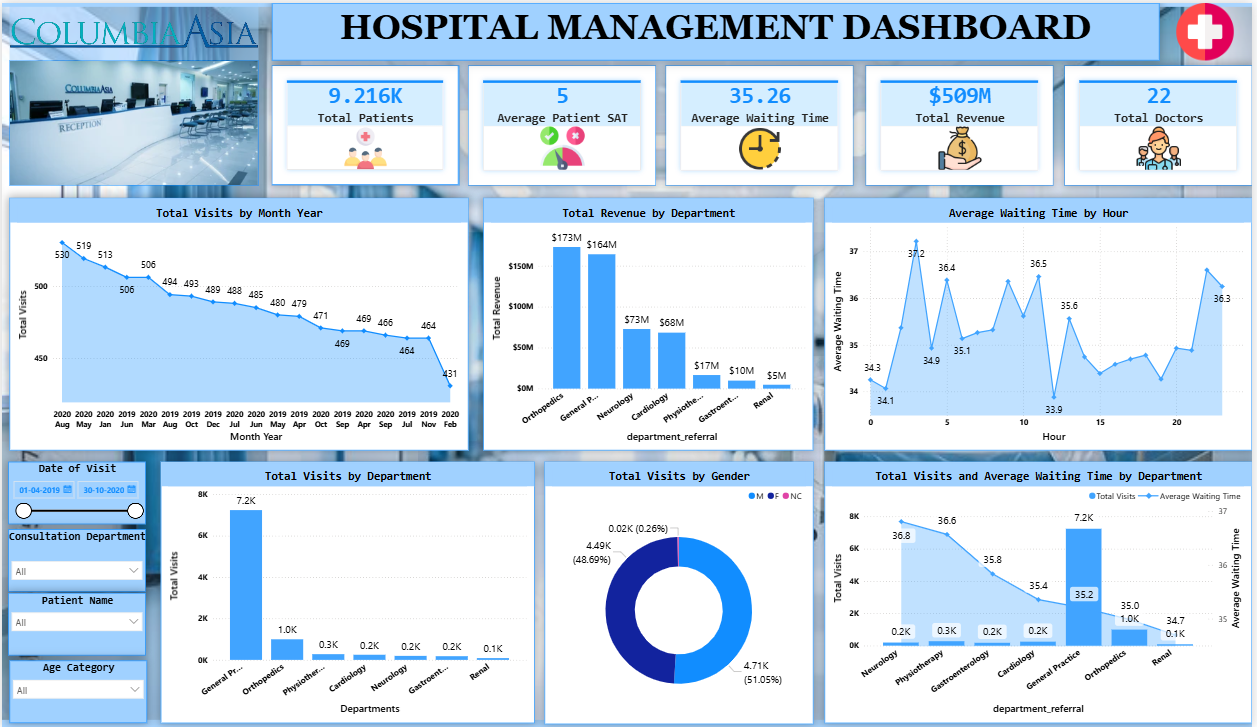

Layout of this report page (visuals, bound fields, positions):
{"tool":"powerbi","page":{"name":"Main Tab","canvas":[2000,1160],"ordinal":0},"visuals":[{"type":"cardVisual","fields":{"Data":["Hospital ER.Total Visits"]},"box":[432,100,298.9,191.1],"z":0,"group":"g2"},{"type":"cardVisual","fields":{"Data":["Doctor-Patients Data.Total Revenue"]},"box":[1382,100,300,192],"z":0},{"type":"cardVisual","fields":{"Data":["Hospital ER.Average Waiting Time"]},"box":[1062,100,300,192],"z":1000},{"type":"cardVisual","fields":{"Data":["Hospital ER.Average Patient SAT"]},"box":[746,100,300,192],"z":2000},{"type":"cardVisual","fields":{"Data":["Doctor-Patients Data.Total Doctors"]},"box":[1700,100,300,192],"z":3000},{"type":"group","id":"g1","title":"Group 1","box":[432,100,300,192],"z":4000},{"type":"group","id":"g2","title":"Group 3","box":[432,100,298.9,191.1],"z":4001,"group":"g3"},{"type":"group","id":"g3","title":"Group 2","box":[432,100,298.9,191.1],"z":4003,"group":"g1"},{"type":"slicer","title":"Date of Visit","fields":{"Values":["Calendar.date"]},"box":[10,734,220,100],"z":5000},{"type":"slicer","title":"Consultation Department ","fields":{"Values":["Doctor-Patients Data.department_referral"]},"box":[10,842,220,100],"z":6000},{"type":"slicer","title":"Patient Name","fields":{"Values":["Hospital ER.Patient_name"]},"box":[10,944,220,100],"z":7000},{"type":"slicer","title":"Age Category","fields":{"Values":["Hospital ER.Age Category"]},"box":[12,1052,220,100],"z":8000},{"type":"image","box":[1850,0,150,92],"z":9000},{"type":"image","box":[11.2,0,398.6,91.3],"z":10000},{"type":"clusteredColumnChart","title":"Total Visits by Department","fields":{"Y":["Calendar.Total Visits"],"Category":["Hospital ER .department_referral"]},"box":[254,734,598,418],"z":11000},{"type":"lineClusteredColumnComboChart","title":"Total Visits and Average Waiting Time by Department","fields":{"Category":["Hospital ER.department_referral"],"Y":["Hospital ER.Total Visits"],"Y2":["Hospital ER.Average Waiting Time"]},"box":[1316,734,684,418],"z":12000},{"type":"lineChart","fields":{"Category":["Hospital ER.Hour"],"Y":["Hospital ER.Average Waiting Time"]},"box":[1316,312,684,404],"z":13000},{"type":"lineChart","fields":{"Y":["Hospital ER.Total Visits"],"Category":["Calendar.Month Year"]},"box":[12,312,734,404],"z":14000},{"type":"clusteredColumnChart","title":"Total Revenue  by Department","fields":{"Category":["Doctor-Patients Data.department_referral"],"Y":["Doctor-Patients Data.Total Revenue"]},"box":[770,312,528,404],"z":15000},{"type":"donutChart","title":"Total Visits by Gender","fields":{"Y":["Hospital ER .Total Visits"],"Category":["Hospital ER .patient_gender"]},"box":[868,734,430,420],"z":16000},{"type":"textbox","box":[432,0,1420,92],"z":17000},{"type":"image","box":[12,92,398,200],"z":18000}]}

Visuals, with their boxes in screenshot pixels (x1, y1, x2, y2), scaled from the page's 2000x1160 canvas onto the 1257x727 screenshot:
cardVisual - Hospital ER.Total Visits: [272,63,459,182]
cardVisual - Doctor-Patients Data.Total Revenue: [869,63,1057,183]
cardVisual - Hospital ER.Average Waiting Time: [667,63,856,183]
cardVisual - Hospital ER.Average Patient SAT: [469,63,657,183]
cardVisual - Doctor-Patients Data.Total Doctors: [1068,63,1256,183]
"Group 1" group: [272,63,460,183]
"Group 3" group: [272,63,459,182]
"Group 2" group: [272,63,459,182]
"Date of Visit" slicer: [6,460,145,523]
"Consultation Department " slicer: [6,528,145,590]
"Patient Name" slicer: [6,592,145,654]
"Age Category" slicer: [8,659,146,722]
image: [1163,0,1256,58]
image: [7,0,258,57]
"Total Visits by Department" clusteredColumnChart: [160,460,535,722]
"Total Visits and Average Waiting Time by Department" lineClusteredColumnComboChart: [827,460,1256,722]
lineChart - Hospital ER.Hour x Hospital ER.Average Waiting Time: [827,196,1256,449]
lineChart - Hospital ER.Total Visits x Calendar.Month Year: [8,196,469,449]
"Total Revenue  by Department" clusteredColumnChart: [484,196,816,449]
"Total Visits by Gender" donutChart: [546,460,816,723]
textbox: [272,0,1164,58]
image: [8,58,258,183]
